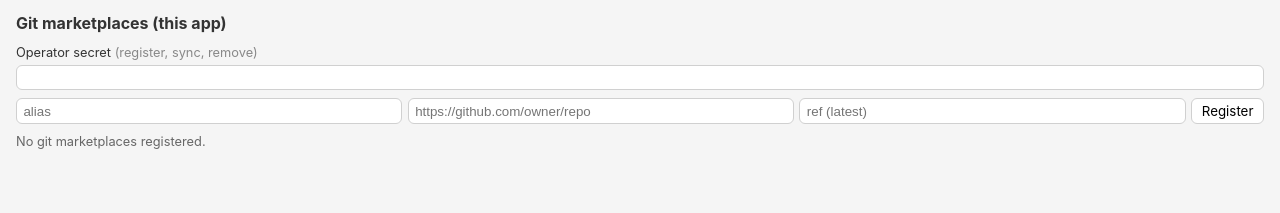
Scenario: AppMarketplacePanel › registers with a null ref for latest, lists the row and tells the catalog to reload
Type "team" into the field with test id "app-marketplace-alias".
click(209, 111); type("team")  # box [16,98,402,124]
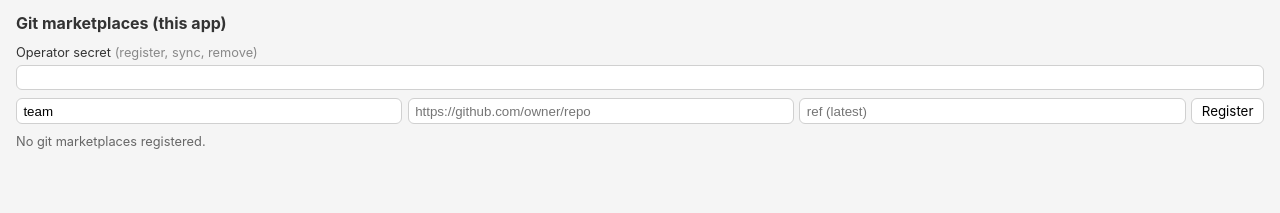
Type "https://github.com/acme/plugins" into the field with test id "app-marketplace-url".
click(601, 111); type("https://github.com/acme/plugins")  # box [408,98,794,124]
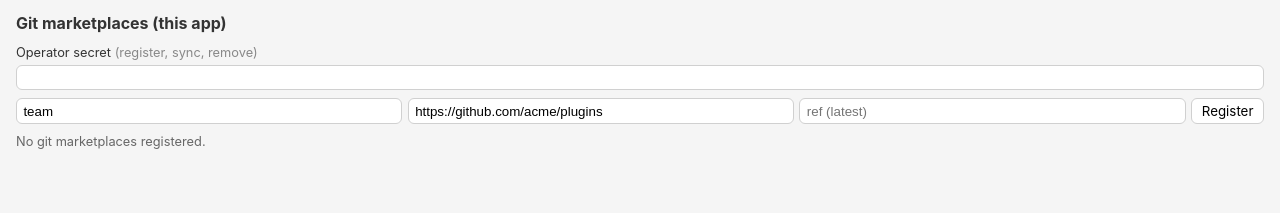
Submit the form, box [16,98,1264,124]
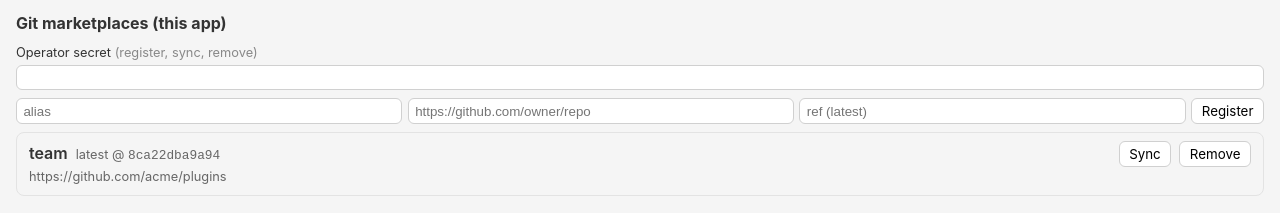
Result: the list item with test id "app-marketplace-row-team" shows "latest @ 8ca22dba9a94" at [16,132,1264,196]
